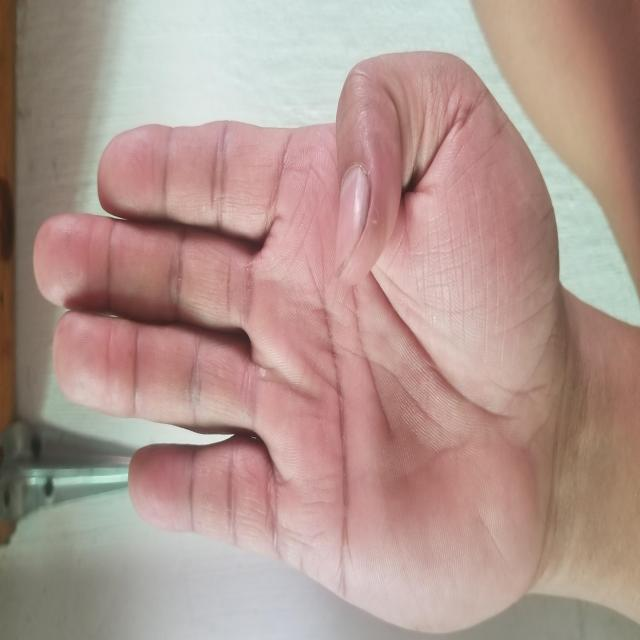B: (0, 30, 597, 560)
